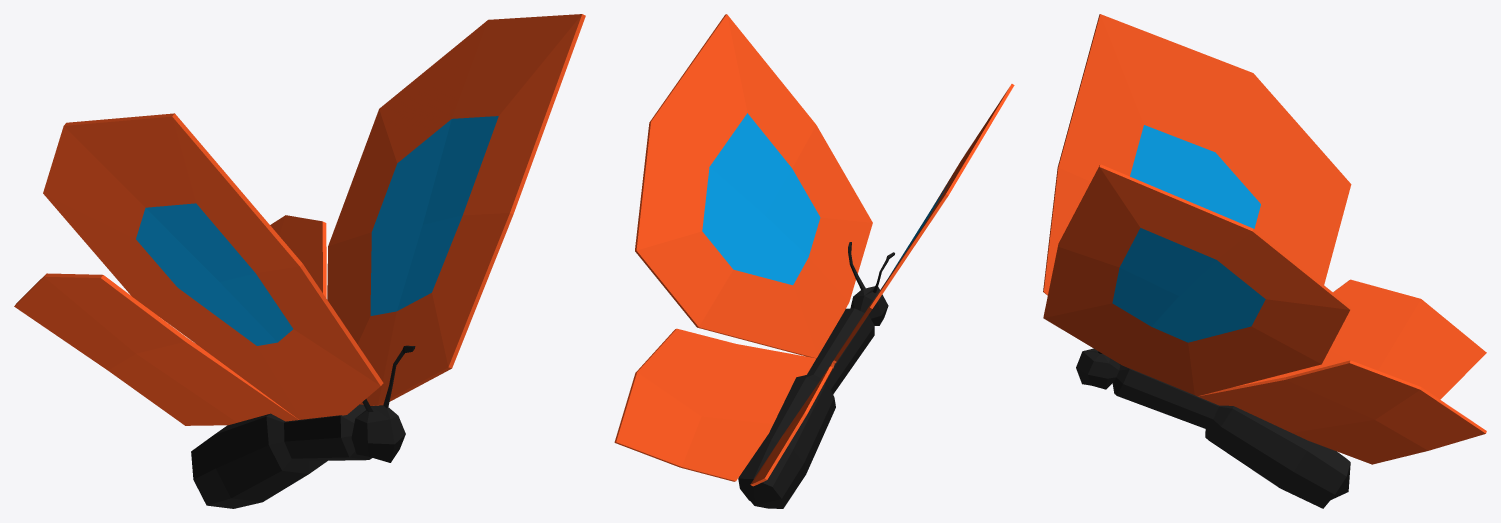
The model's file is apollon.glb.
The picture shows the model from 3 angles, left to right: view 1: azimuth 30°, elevation 25°; view 2: azimuth 150°, elevation 25°; view 3: azimuth 270°, elevation 25°; orthographic projection. The views are drawn at different scales.
Parts seen in each view (by area): view 1: Butterfly_01_Cube.037; view 2: Butterfly_01_Cube.037; view 3: Butterfly_01_Cube.037.
Part boxes in pixels (x1,y1,x2,y2): Butterfly_01_Cube.037: (14,14,585,508); Butterfly_01_Cube.037: (614,14,1014,508); Butterfly_01_Cube.037: (1043,14,1486,508).
Bounding box in the file's own units: 13.27 × 16.34 × 15.78.
